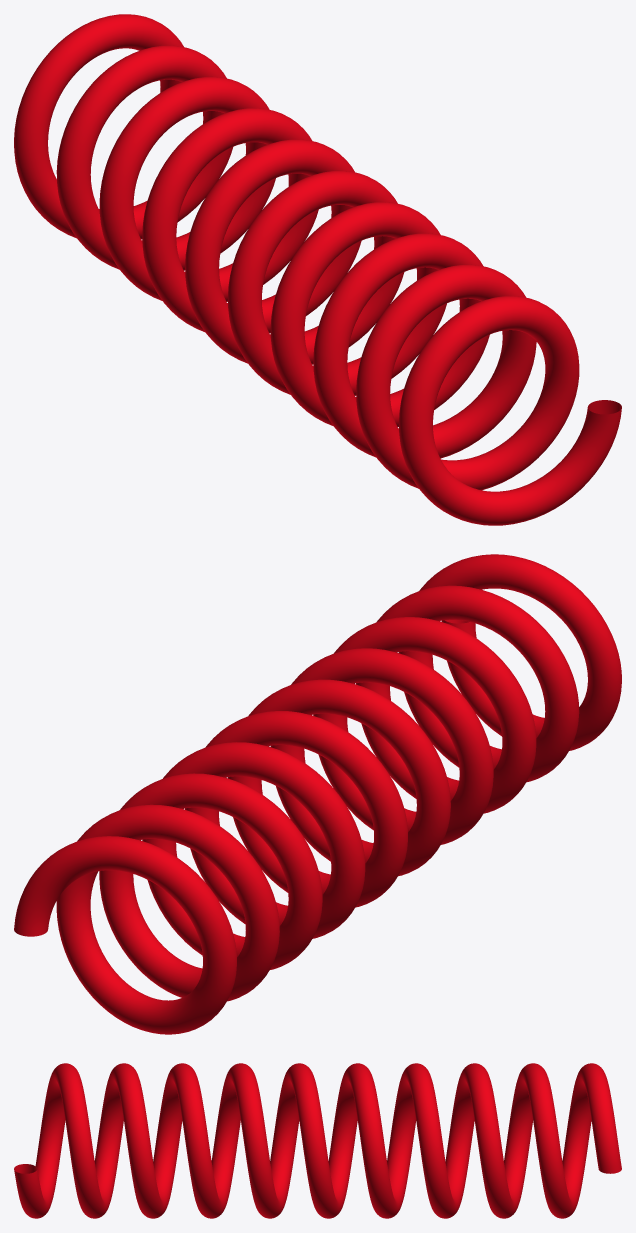
File: spring.fbx
The picture shows the model from 3 angles, top to bottom: view 1: azimuth 30°, elevation 25°; view 2: azimuth 150°, elevation 25°; view 3: azimuth 270°, elevation 25°; orthographic projection. The views are drawn at different scales.
Visible parts, largest first — view 1: Circle; view 2: Circle; view 3: Circle.
Boxes of the visible parts, x1,y1,x2,y2 form: Circle: (14, 14, 621, 525); Circle: (14, 554, 621, 1034); Circle: (14, 1063, 621, 1218).
Size of the model in its own units: 199 by 199 by 780.
